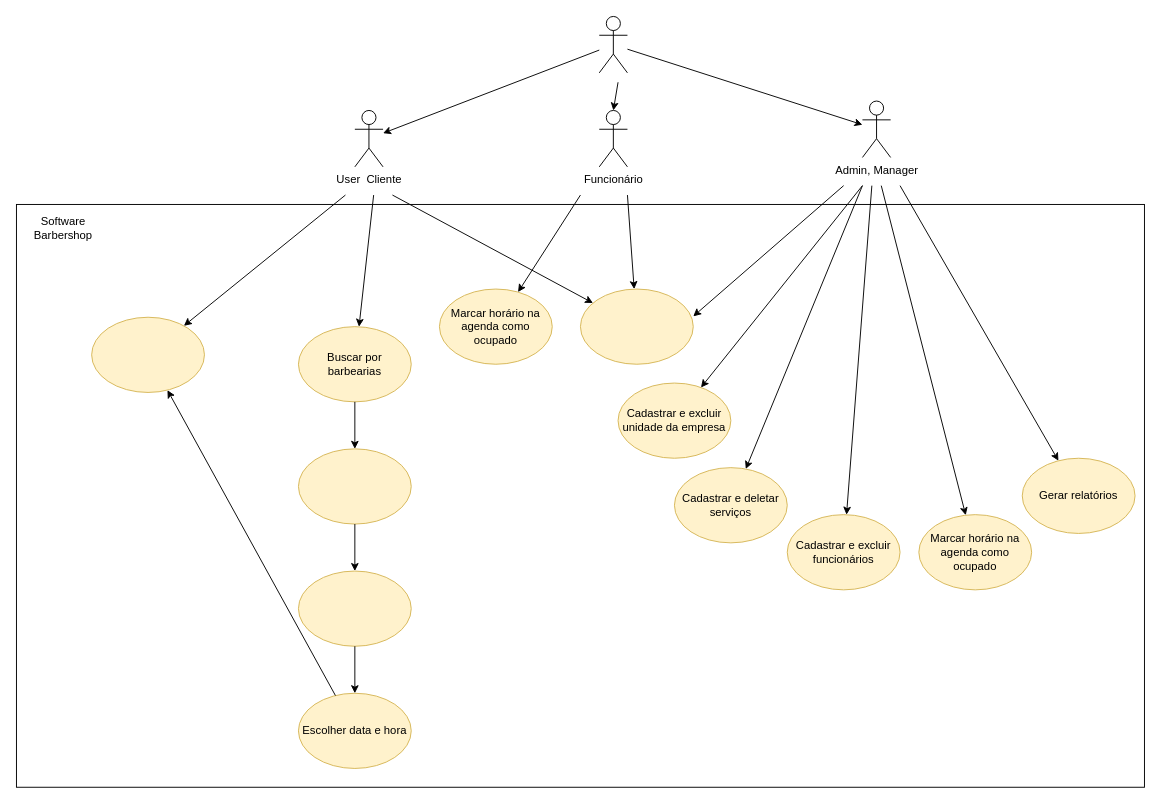
Some shapes in this 1161 by 804 pixel diagram are drawn without their labels. Each missing label, with the box of its shape:
Avaliar atendimento: (91, 316, 204, 392)
Escolher profissional: (298, 570, 411, 646)
Escolher serviço: (298, 448, 411, 524)
User: (598, 16, 627, 73)
Visualizar agenda: (580, 288, 693, 364)
